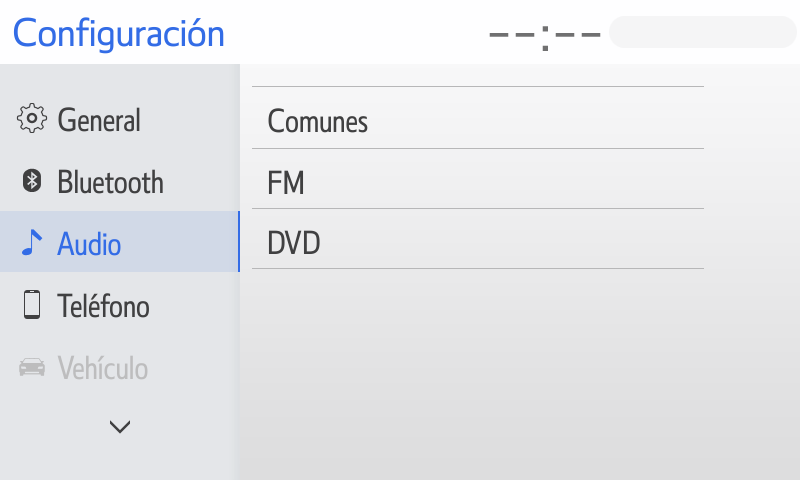touchPart: (252, 205, 707, 279), (250, 80, 704, 152), (249, 145, 707, 214), (21, 277, 163, 327), (20, 157, 165, 202), (16, 98, 158, 141), (97, 408, 147, 447)
untouchPart: (1, 205, 246, 273), (479, 14, 796, 55), (12, 13, 234, 61), (14, 344, 159, 394)
